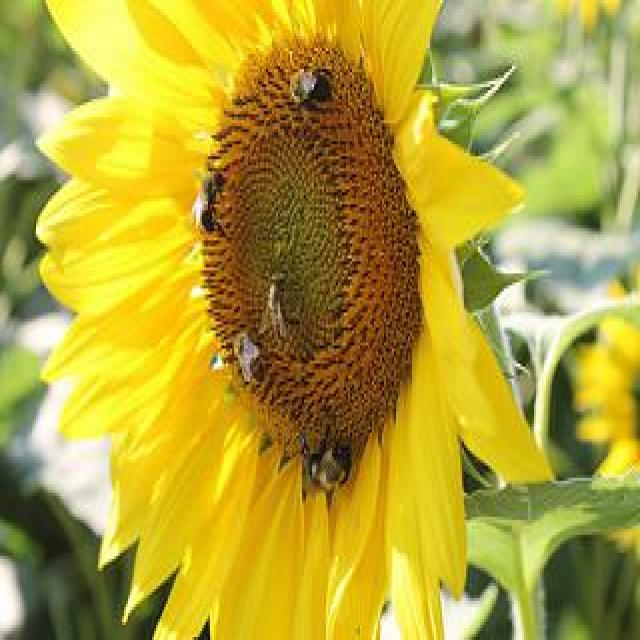sunflower: (33, 0, 548, 640), (571, 284, 640, 538)
